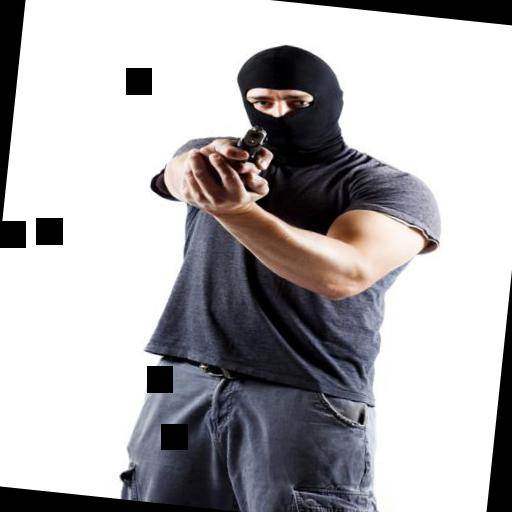Handgun: (229, 119, 268, 162)
